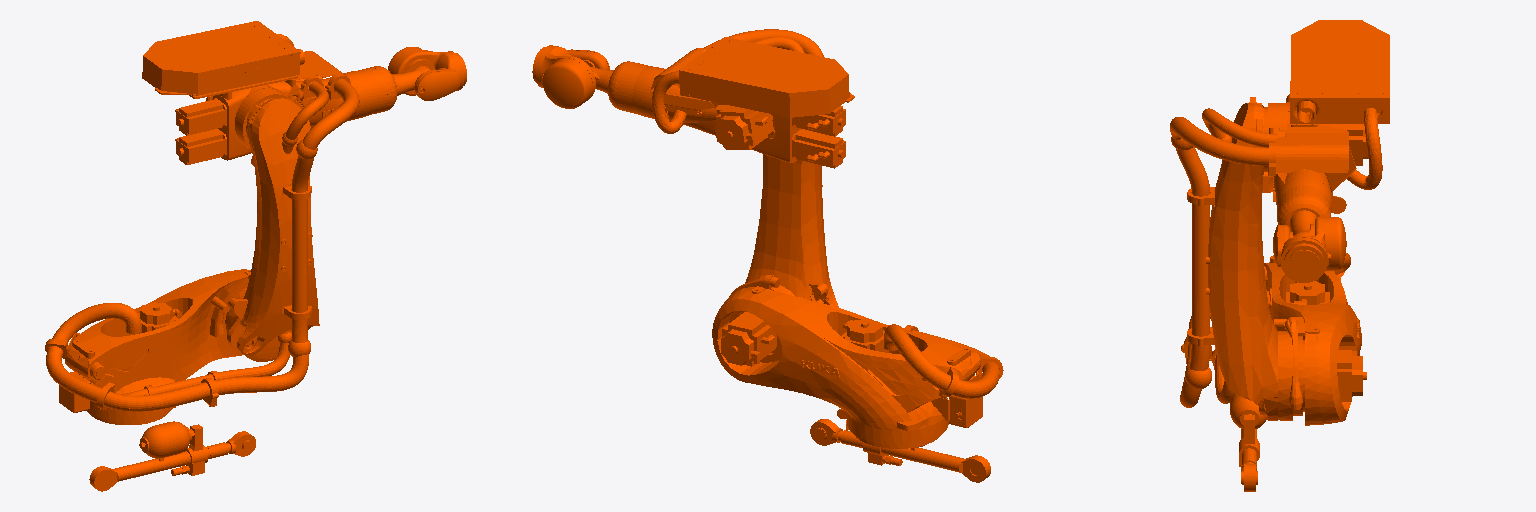
The robot description file, URDF, robot "kuka_kr270_r2900_ultra_k":
<?xml version="1.0"?>
<robot name="kuka_kr270_r2900_ultra_k">
  <material name="kuka_orange"><color rgba="1.00 0.40 0.00 1.0"/></material>
  <material name="kuka_dark_gray"><color rgba="0.20 0.20 0.20 1.0"/></material>

  <link name="base_link">
    <inertial>
      <origin xyz="-0.188277 0.000153 0.138686" rpy="0 0 0"/>
      <mass value="320.000"/>
      <inertia ixx="10.419110" ixy="0.131941" ixz="2.030515" iyy="16.523133" iyz="-0.046261" izz="22.655234"/>
    </inertial>
    <visual>
      <origin xyz="0 0 0" rpy="0 0 0"/>
      <geometry><mesh filename="meshes/visual/base_link.stl"/></geometry>
      <material name="kuka_dark_gray"/>
    </visual>
    <collision>
      <origin xyz="0 0 0" rpy="0 0 0"/>
      <geometry><mesh filename="meshes/visual/base_link.stl"/></geometry>
    </collision>
  </link>

  <link name="link_1">
    <inertial>
      <origin xyz="0.190417 -0.074173 0.467066" rpy="0 0 0"/>
      <mass value="364.800"/>
      <inertia ixx="18.056463" ixy="-2.487021" ixz="-2.979597" iyy="38.347415" iyz="-3.357628" izz="38.096485"/>
    </inertial>
    <visual>
      <origin xyz="0 0 0" rpy="0 0 0"/>
      <geometry><mesh filename="meshes/visual/link_1.stl"/></geometry>
      <material name="kuka_orange"/>
    </visual>
    <collision>
      <origin xyz="0 0 0" rpy="0 0 0"/>
      <geometry><mesh filename="meshes/visual/link_1.stl"/></geometry>
    </collision>
  </link>

  <link name="link_2">
    <inertial>
      <origin xyz="-0.000645 -0.269578 0.504835" rpy="0 0 0"/>
      <mass value="819.500"/>
      <inertia ixx="103.348195" ixy="-0.171872" ixz="-0.579205" iyy="99.642221" iyz="7.759412" izz="14.905823"/>
    </inertial>
    <visual>
      <origin xyz="0 0 0" rpy="0 0 0"/>
      <geometry><mesh filename="meshes/visual/link_2.stl"/></geometry>
      <material name="kuka_orange"/>
    </visual>
    <collision>
      <origin xyz="0 0 0" rpy="0 0 0"/>
      <geometry><mesh filename="meshes/visual/link_2.stl"/></geometry>
    </collision>
  </link>

  <link name="link_3">
    <inertial>
      <origin xyz="0.090196 0.021581 0.093689" rpy="0 0 0"/>
      <mass value="621.600"/>
      <inertia ixx="20.475269" ixy="2.959227" ixz="4.367594" iyy="43.032996" iyz="-2.231651" izz="48.121705"/>
    </inertial>
    <visual>
      <origin xyz="0 0 0" rpy="0 0 0"/>
      <geometry><mesh filename="meshes/visual/link_3.stl"/></geometry>
      <material name="kuka_orange"/>
    </visual>
    <collision>
      <origin xyz="0 0 0" rpy="0 0 0"/>
      <geometry><mesh filename="meshes/visual/link_3.stl"/></geometry>
    </collision>
  </link>

  <link name="link_4">
    <inertial>
      <origin xyz="-0.112935 0.005035 0.000000" rpy="0 0 0"/>
      <mass value="79.200"/>
      <inertia ixx="0.274625" ixy="-0.032483" ixz="0.000007" iyy="0.760957" iyz="0.000339" izz="0.758866"/>
    </inertial>
    <visual>
      <origin xyz="0 0 0" rpy="0 0 0"/>
      <geometry><mesh filename="meshes/visual/link_4.stl"/></geometry>
      <material name="kuka_orange"/>
    </visual>
    <collision>
      <origin xyz="0 0 0" rpy="0 0 0"/>
      <geometry><mesh filename="meshes/visual/link_4.stl"/></geometry>
    </collision>
  </link>

  <link name="link_5">
    <inertial>
      <origin xyz="0.054386 0.025721 -0.000070" rpy="0 0 0"/>
      <mass value="114.800"/>
      <inertia ixx="1.033947" ixy="0.107566" ixz="0.000376" iyy="1.061568" iyz="0.000187" izz="1.406064"/>
    </inertial>
    <visual>
      <origin xyz="0 0 0" rpy="0 0 0"/>
      <geometry><mesh filename="meshes/visual/link_5.stl"/></geometry>
      <material name="kuka_orange"/>
    </visual>
    <collision>
      <origin xyz="0 0 0" rpy="0 0 0"/>
      <geometry><mesh filename="meshes/visual/link_5.stl"/></geometry>
    </collision>
  </link>

  <link name="link_6">
    <inertial>
      <origin xyz="-0.014679 0.000060 -0.000081" rpy="0 0 0"/>
      <mass value="80.100"/>
      <inertia ixx="0.365936" ixy="-0.000043" ixz="0.000007" iyy="0.231138" iyz="0.000012" izz="0.225962"/>
    </inertial>
    <visual>
      <origin xyz="0 0 0" rpy="0 0 0"/>
      <geometry><mesh filename="meshes/visual/link_6.stl"/></geometry>
      <material name="kuka_dark_gray"/>
    </visual>
    <collision>
      <origin xyz="0 0 0" rpy="0 0 0"/>
      <geometry><mesh filename="meshes/visual/link_6.stl"/></geometry>
    </collision>
  </link>

  <link name="tool0"/>

  <joint name="joint_a1" type="revolute">
    <parent link="base_link"/>
    <child link="link_1"/>
    <origin xyz="0.000000 0.000000 0.000000" rpy="0 0 0"/>
    <axis xyz="0.0 0.0 -1.0"/>
    <limit lower="-3.228859" upper="3.228859" effort="9600.0" velocity="1.834634"/>
    <dynamics damping="5.0" friction="1.0"/>
  </joint>

  <joint name="joint_a2" type="revolute">
    <parent link="link_1"/>
    <child link="link_2"/>
    <origin xyz="0.750000 0.000000 0.590000" rpy="0 0 0"/>
    <axis xyz="0.0 1.0 0.0"/>
    <limit lower="-0.523599" upper="2.792527" effort="9600.0" velocity="1.762111"/>
    <dynamics damping="5.0" friction="1.0"/>
  </joint>

  <joint name="joint_a3" type="revolute">
    <parent link="link_2"/>
    <child link="link_3"/>
    <origin xyz="0.000000 0.000000 1.150000" rpy="0 0 0"/>
    <axis xyz="0.0 1.0 0.0"/>
    <limit lower="-3.665191" upper="1.134464" effort="6654.0" velocity="1.867525"/>
    <dynamics damping="5.0" friction="1.0"/>
  </joint>

  <joint name="joint_a4" type="revolute">
    <parent link="link_3"/>
    <child link="link_4"/>
    <origin xyz="1.000000 0.000000 -0.041000" rpy="0 0 0"/>
    <axis xyz="-1.0 0.0 -0.0"/>
    <limit lower="-6.108652" upper="6.108652" effort="2075.8" velocity="2.132303"/>
    <dynamics damping="5.0" friction="1.0"/>
  </joint>

  <joint name="joint_a5" type="revolute">
    <parent link="link_4"/>
    <child link="link_5"/>
    <origin xyz="0.000000 0.000000 0.000000" rpy="0 0 0"/>
    <axis xyz="0.0 1.0 0.0"/>
    <limit lower="-2.138028" upper="2.138028" effort="2075.8" velocity="1.966617"/>
    <dynamics damping="5.0" friction="1.0"/>
  </joint>

  <joint name="joint_a6" type="revolute">
    <parent link="link_5"/>
    <child link="link_6"/>
    <origin xyz="0.240000 0.000000 0.000000" rpy="0 0 0"/>
    <axis xyz="-1.0 0.0 -0.0"/>
    <limit lower="-6.108652" upper="6.108652" effort="1221.1" velocity="3.053586"/>
    <dynamics damping="5.0" friction="1.0"/>
  </joint>

  <joint name="link_6-tool0" type="fixed">
    <parent link="link_6"/>
    <child link="tool0"/>
    <origin xyz="0.000000 0.000000 0.000000" rpy="0 1.57079632679 0"/>
  </joint>
</robot>

--- Render facts (derived) ---
The picture shows the robot from 3 angles, left to right: view 1: azimuth 30°, elevation 25°; view 2: azimuth 150°, elevation 25°; view 3: azimuth 270°, elevation 25°; orthographic projection.
Robot: kuka_kr270_r2900_ultra_k — 8 links, 7 joints (6 revolute, 1 fixed); root link base_link; default pose: all joints at 0.
Links seen in each view (by area): view 1: link_1, link_3, link_2, link_5, link_4; view 2: link_1, link_3, link_2, link_5; view 3: link_3, link_2, link_1, link_5, link_4.
Link boxes in pixels (<box>): link_1: <box>45,269,308,491</box>; link_3: <box>142,21,396,164</box>; link_2: <box>225,96,319,361</box>; link_5: <box>388,47,466,100</box>; link_4: <box>392,59,435,95</box>; link_1: <box>712,286,1003,482</box>; link_3: <box>608,29,854,168</box>; link_2: <box>729,154,838,307</box>; link_5: <box>532,45,609,108</box>; link_3: <box>1170,20,1389,224</box>; link_2: <box>1176,97,1304,420</box>; link_1: <box>1180,253,1366,491</box>; link_5: <box>1273,217,1346,282</box>; link_4: <box>1286,209,1319,236</box>.
Size in the robot's own frame: 2.44 by 0.9725 by 2.17 metres.
Meshes: 7 distinct files referenced, 5 mesh visuals loaded (5 binary STL); not drawn: 2 (reference not matched to a file when rendering).
